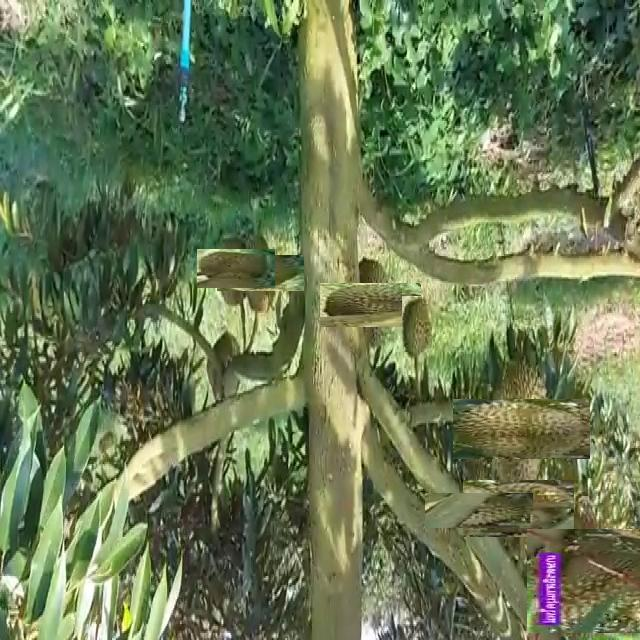durian: (530, 526, 640, 637), (472, 379, 570, 479), (476, 466, 561, 550), (334, 269, 406, 341), (443, 474, 515, 546), (230, 242, 292, 304), (204, 328, 245, 412), (207, 240, 265, 298), (402, 296, 434, 361)
